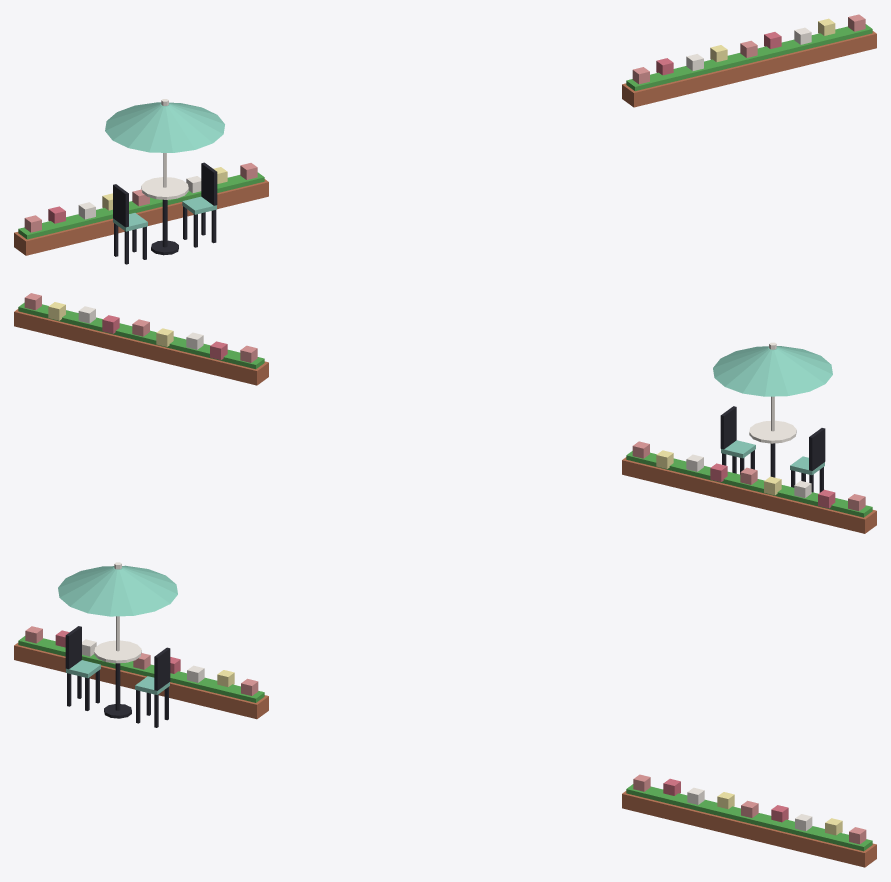
File: CatCafe_Plot_Tier2.fbx
The picture shows the model from 3 angles, top to bottom: view 1: azimuth 30°, elevation 25°; view 2: azimuth 150°, elevation 25°; view 3: azimuth 330°, elevation 25°; orthographic projection.
Parts seen in each view (by area): view 1: CatCafe_Plot_Tier2, CatCafe_Plot_Tier2_Bistro, CatCafe_Plot_Tier2_Flowers; view 2: CatCafe_Plot_Tier2, CatCafe_Plot_Tier2_Bistro, CatCafe_Plot_Tier2_Flowers; view 3: CatCafe_Plot_Tier2, CatCafe_Plot_Tier2_Bistro, CatCafe_Plot_Tier2_Flowers.
Boxes of the visible parts, x1,y1,x2,y2 form: CatCafe_Plot_Tier2: [14, 14, 876, 255]; CatCafe_Plot_Tier2_Bistro: [105, 99, 224, 264]; CatCafe_Plot_Tier2_Flowers: [18, 24, 872, 239]; CatCafe_Plot_Tier2: [14, 293, 876, 533]; CatCafe_Plot_Tier2_Bistro: [713, 342, 832, 492]; CatCafe_Plot_Tier2_Flowers: [18, 302, 872, 517]; CatCafe_Plot_Tier2: [14, 626, 876, 867]; CatCafe_Plot_Tier2_Bistro: [58, 562, 177, 727]; CatCafe_Plot_Tier2_Flowers: [18, 636, 872, 851].
Size of the model in its own units: 30.8 by 5.15 by 3.8.
1 material, 1 textured.
